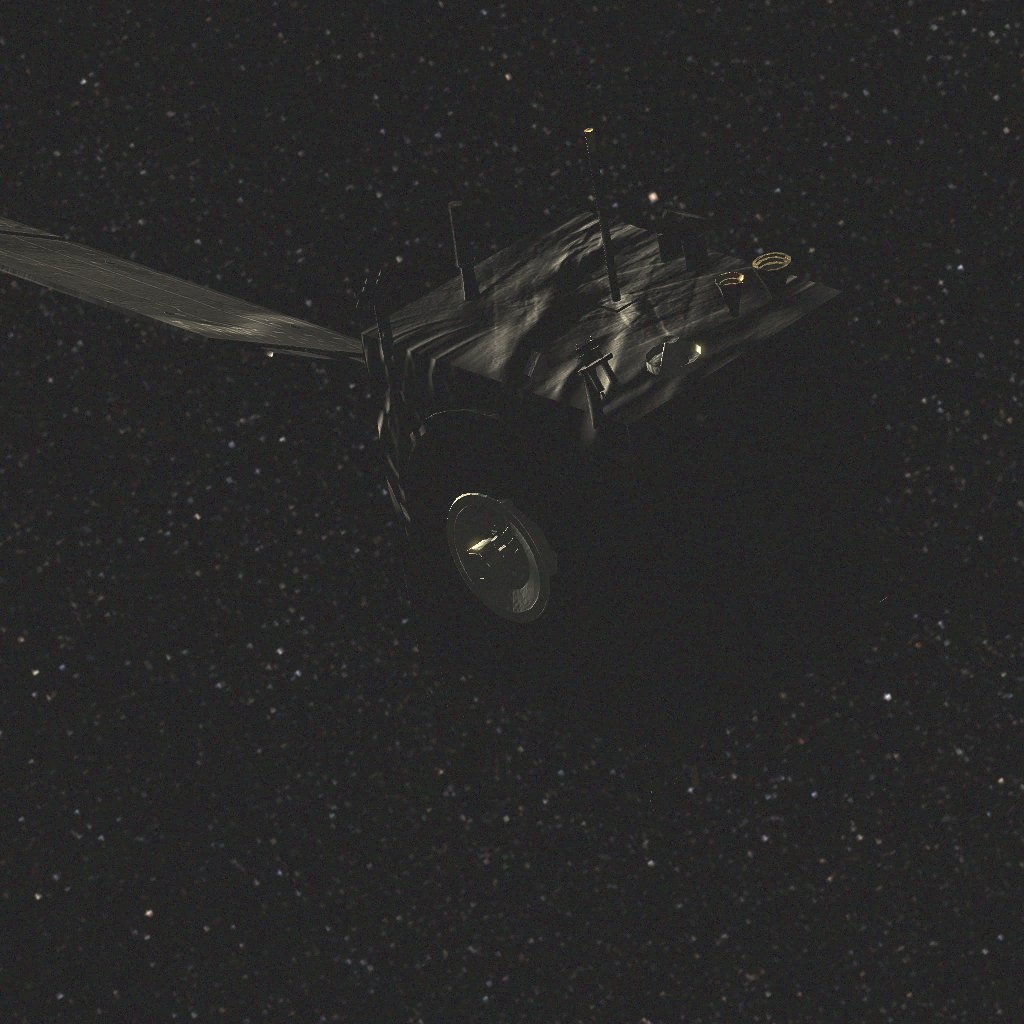smart_1: (0, 128, 1024, 819)
